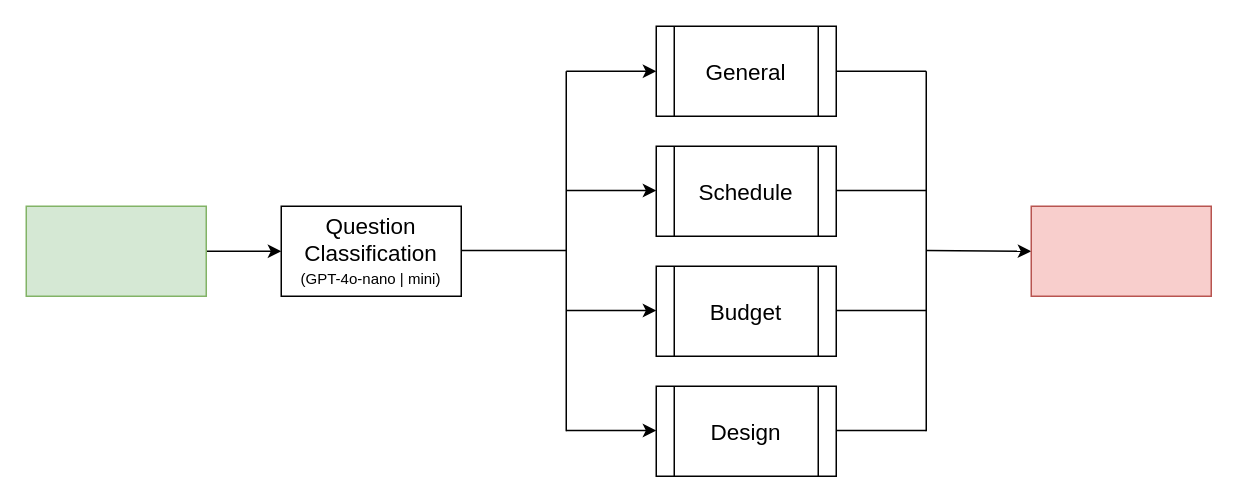
This 1238x503 diagram has some shape labels left out. The centre of each missing label's shape, as x and y in pixels:
"Response Displayed" goes at point (1120, 250).
"User Question" goes at point (115, 250).
